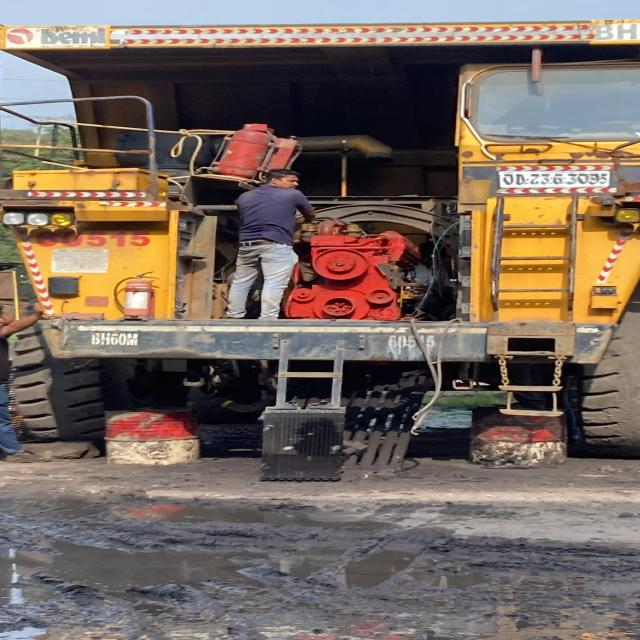dump_truck: (1, 12, 640, 470)
